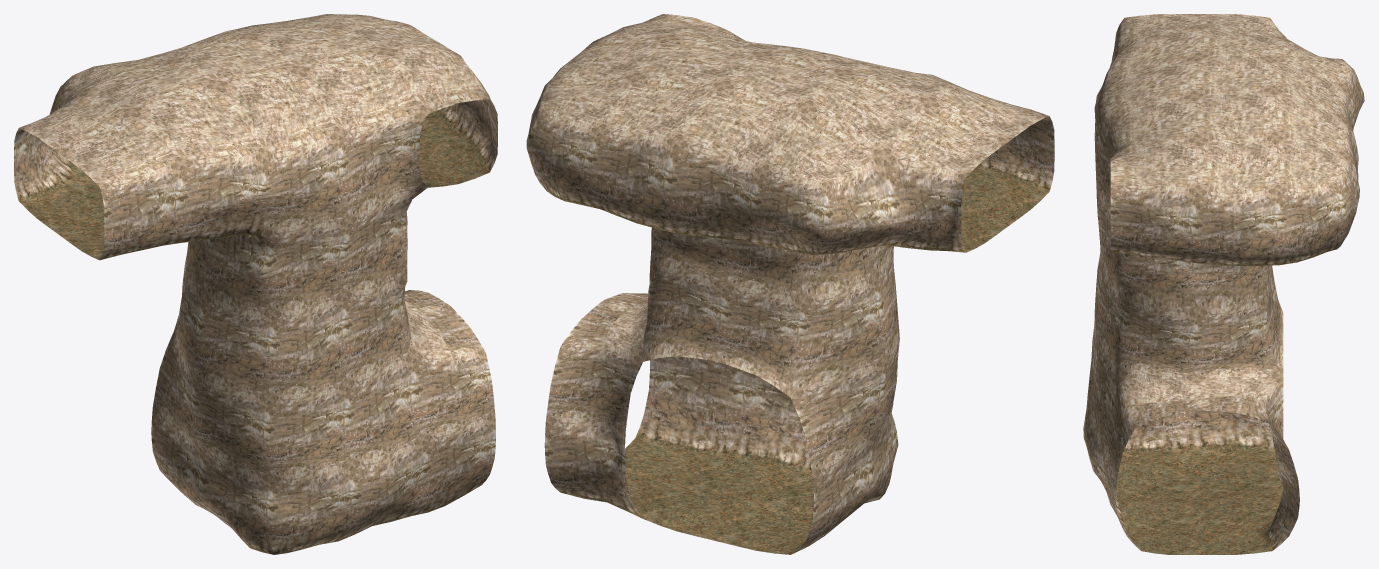
Rendered from thm_all_cave_flatland_s03_r20_mesh_r20.fbx.
3 renders of one model, left to right at view 1: azimuth 30°, elevation 25°; view 2: azimuth 150°, elevation 25°; view 3: azimuth 270°, elevation 25°, orthographic. The views are drawn at different scales.
Parts seen in each view (by area): view 1: mesh_node; view 2: mesh_node; view 3: mesh_node.
Boxes of the visible parts, box(x1,y1,x2,y2) form: mesh_node: box(14, 14, 497, 554); mesh_node: box(526, 14, 1054, 554); mesh_node: box(1083, 14, 1364, 554).
Size of the model in its own units: 43.02 by 43.8 by 27.66.
